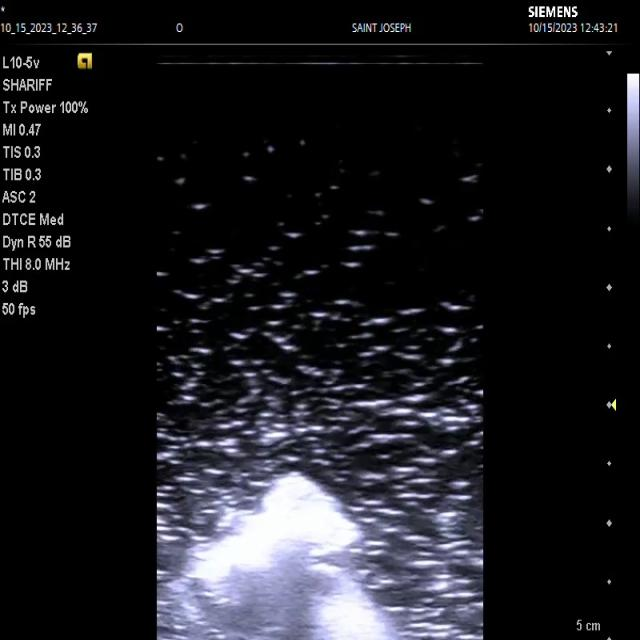tissue: (158, 477, 399, 640)
